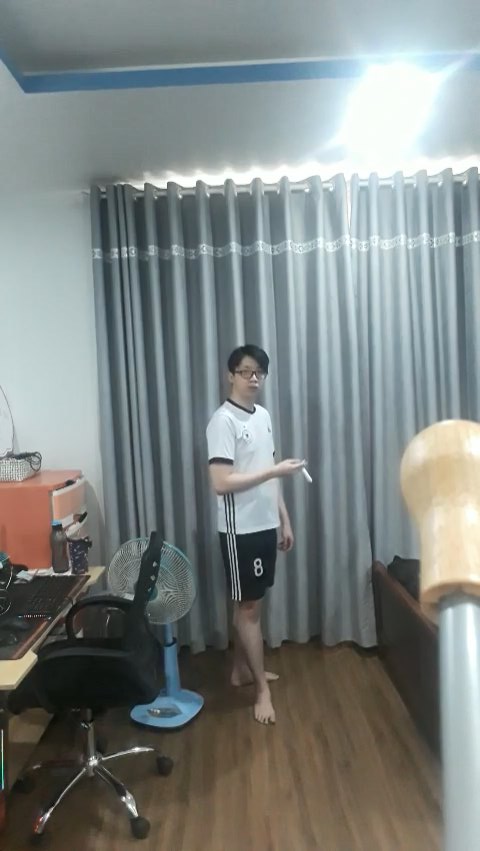cigarette: (300, 467, 314, 484)
person: (187, 332, 327, 732)
